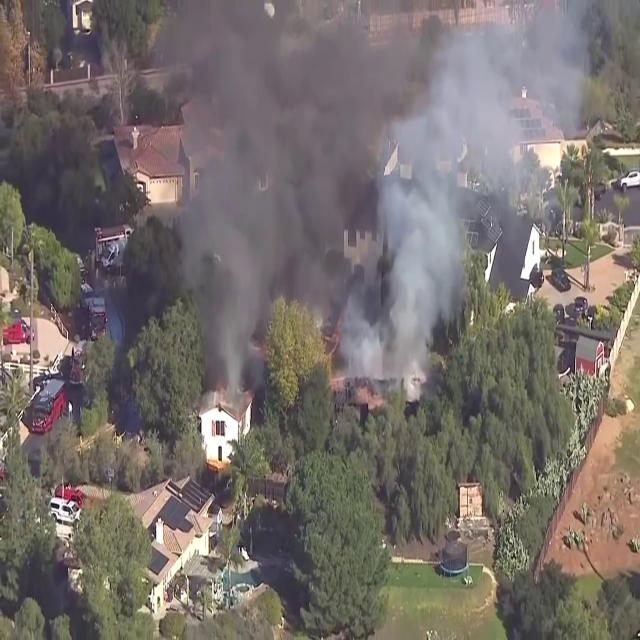Smoke: (154, 0, 586, 385)
